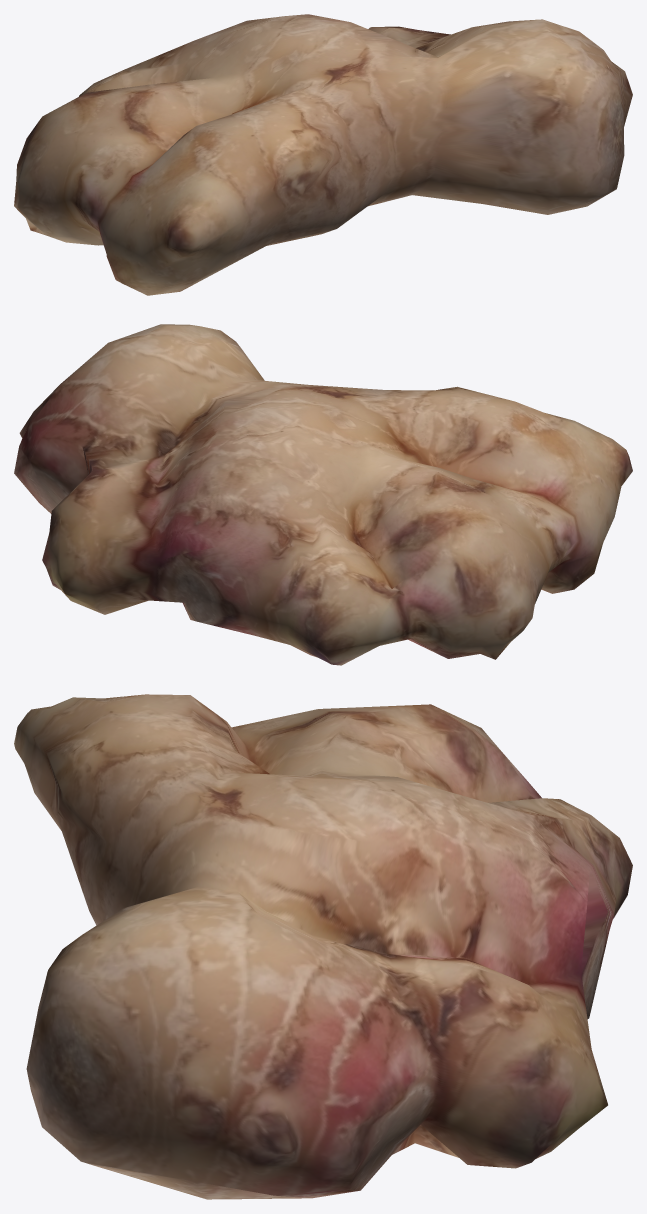
Rendered from A9_Ginger_low.fbx.
3 views of the same model, one above another, from view 1: azimuth 30°, elevation 25°; view 2: azimuth 150°, elevation 25°; view 3: azimuth 270°, elevation 25° (orthographic). The views are drawn at different scales.
Visible parts, largest first — view 1: A9_Ginger_low; view 2: A9_Ginger_low; view 3: A9_Ginger_low.
Boxes of the visible parts, left/top/right/bottom form: A9_Ginger_low: left=14, top=14, right=632, bottom=295; A9_Ginger_low: left=14, top=324, right=632, bottom=665; A9_Ginger_low: left=14, top=694, right=632, bottom=1199.
Size of the model in its own units: 14.33 by 9.43 by 4.71.
Materials: 1 (1 with a texture image).
